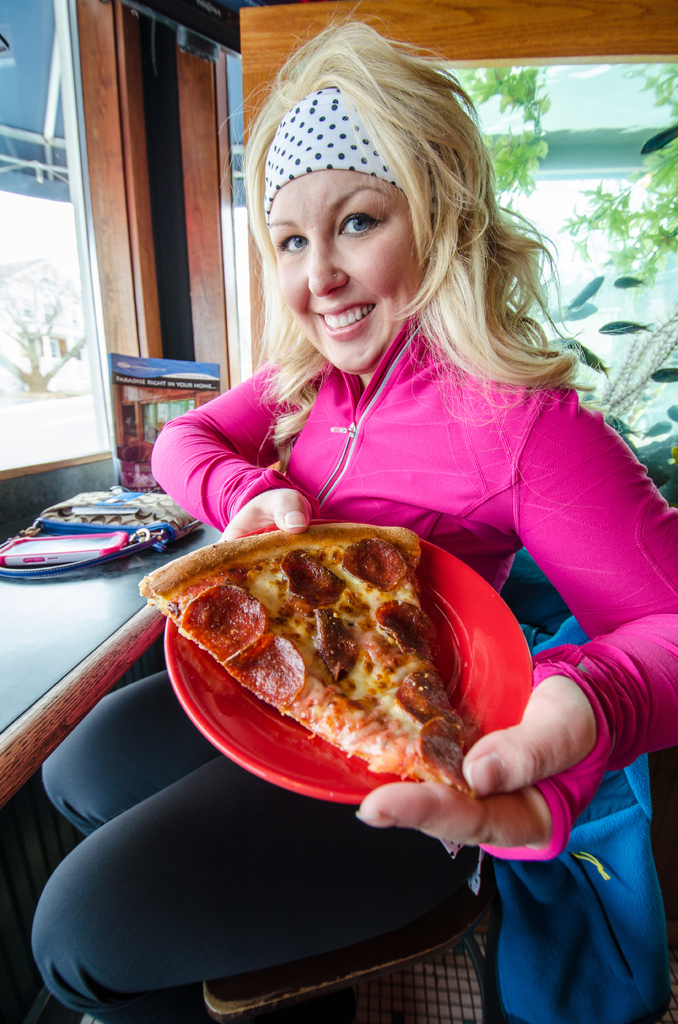Pizza: (160, 508, 476, 801)
